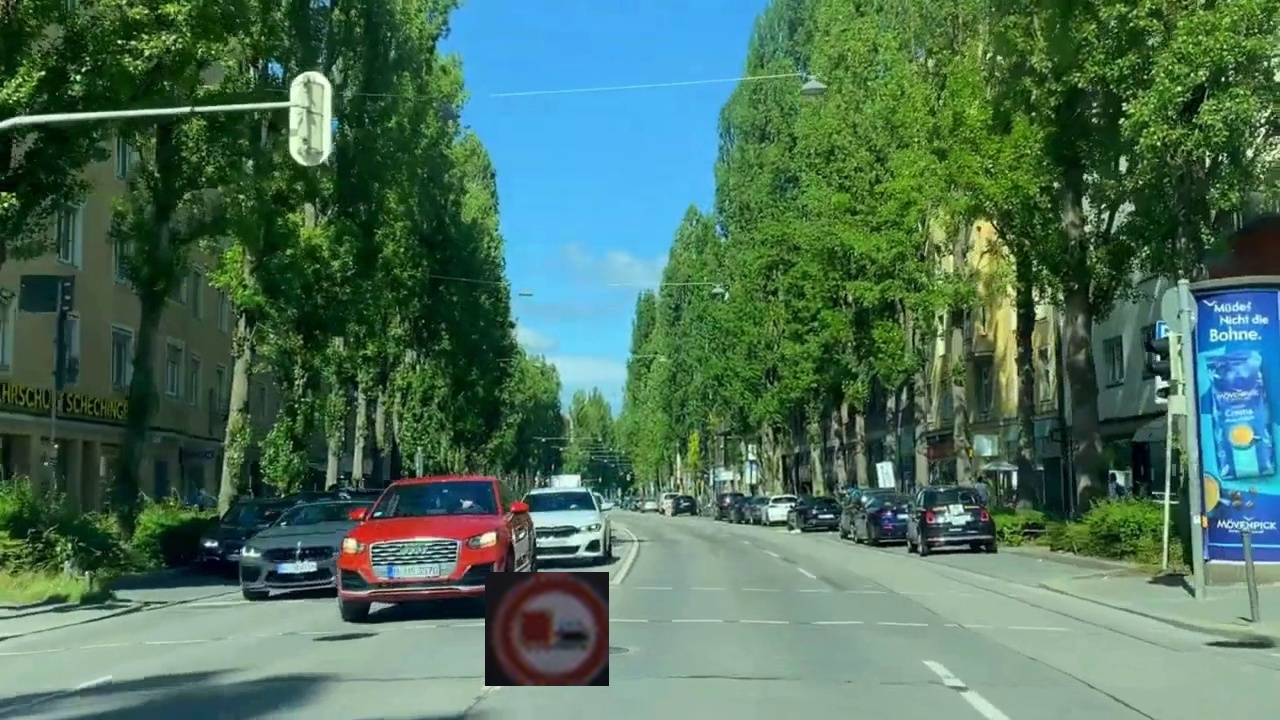No pass >3.5t: (485, 572, 609, 686)
